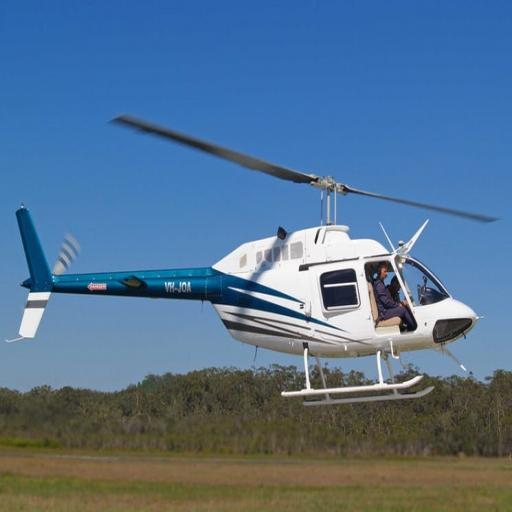helicopter: (2, 108, 499, 417)
